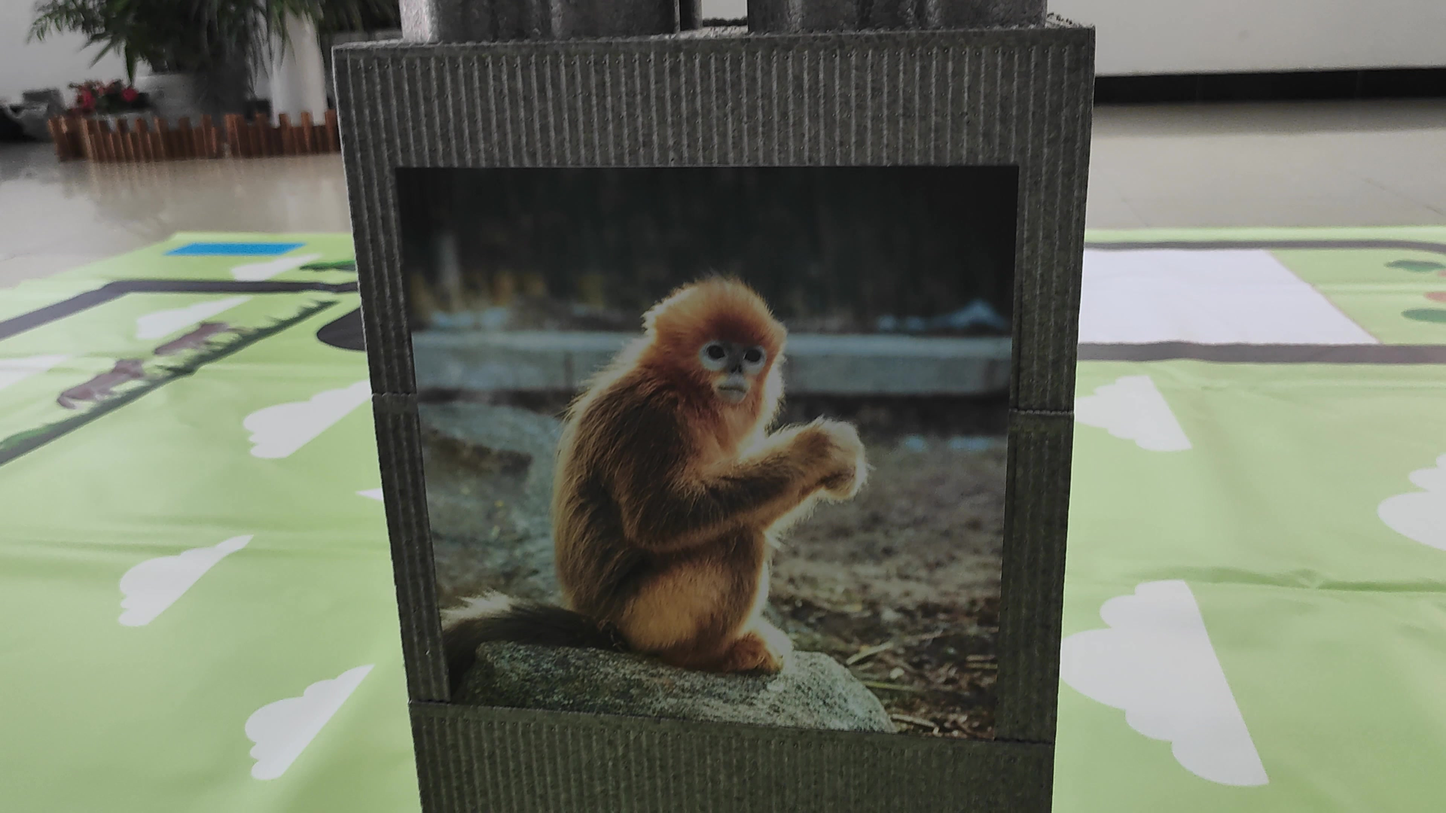monkey: (429, 201, 867, 703)
